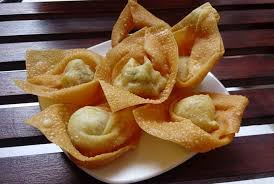Pangsit goreng: (132, 86, 250, 157), (25, 101, 134, 172), (97, 29, 181, 110), (14, 41, 113, 104), (165, 1, 229, 87)
